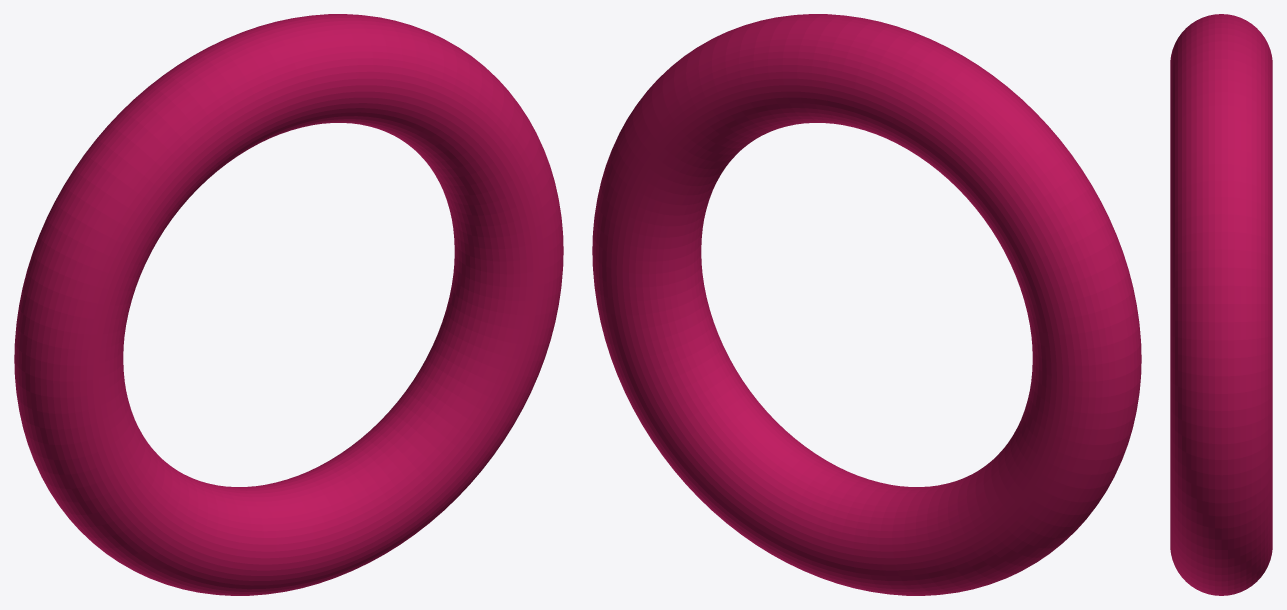
3 renders of one model, left to right at view 1: azimuth 30°, elevation 25°; view 2: azimuth 150°, elevation 25°; view 3: azimuth 270°, elevation 25°, orthographic. The views are drawn at different scales.
Visible parts, largest first — view 1: world; view 2: world; view 3: world.
Part boxes in pixels (x1,y1,x2,y2): world: [14, 14, 563, 595]; world: [592, 14, 1141, 595]; world: [1170, 14, 1272, 595].
Size of the model in its own units: 34 by 34 by 5.99.
